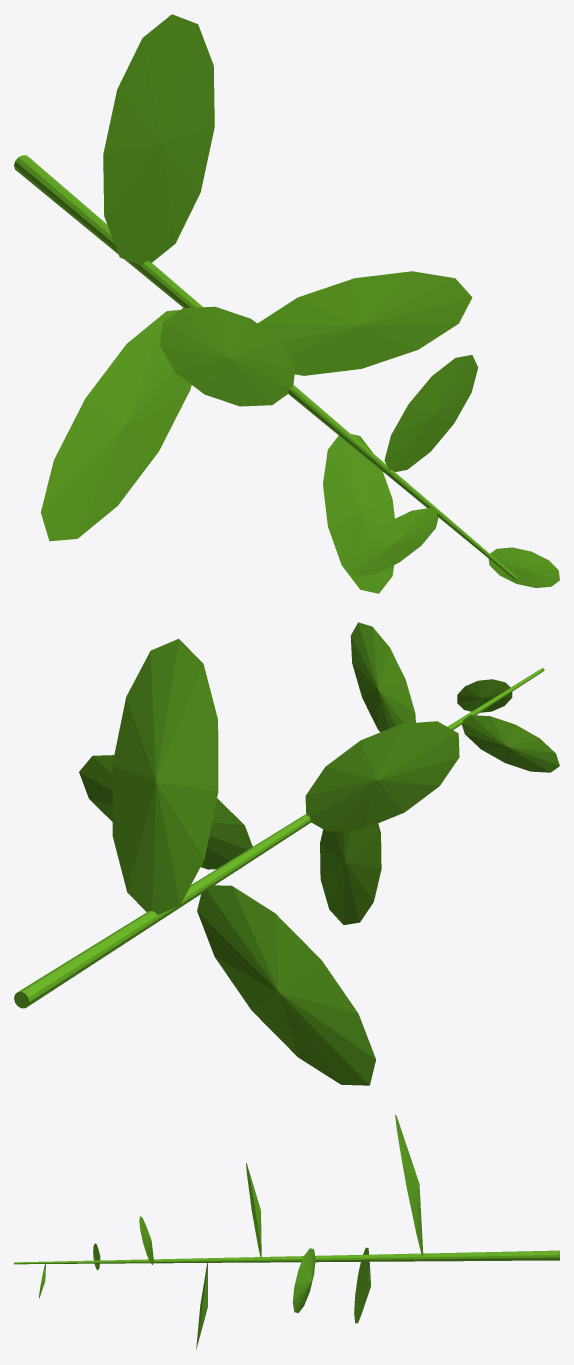
3 views of the same model, one above another, from view 1: azimuth 30°, elevation 25°; view 2: azimuth 150°, elevation 25°; view 3: azimuth 270°, elevation 25° (orthographic). The views are drawn at different scales.
Bounding box in the file's own units: 0.1401 × 0.1671 × 0.3401.
